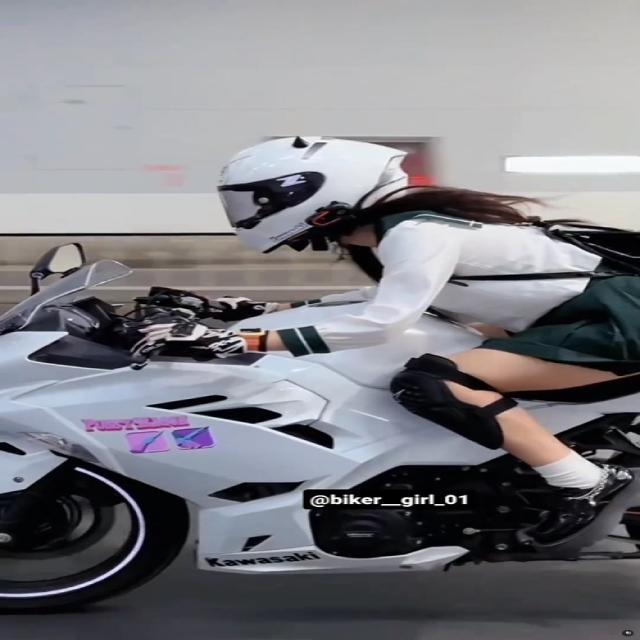helmet: (208, 130, 418, 262)
